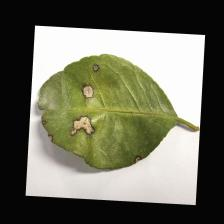canker: (36, 50, 147, 163)
